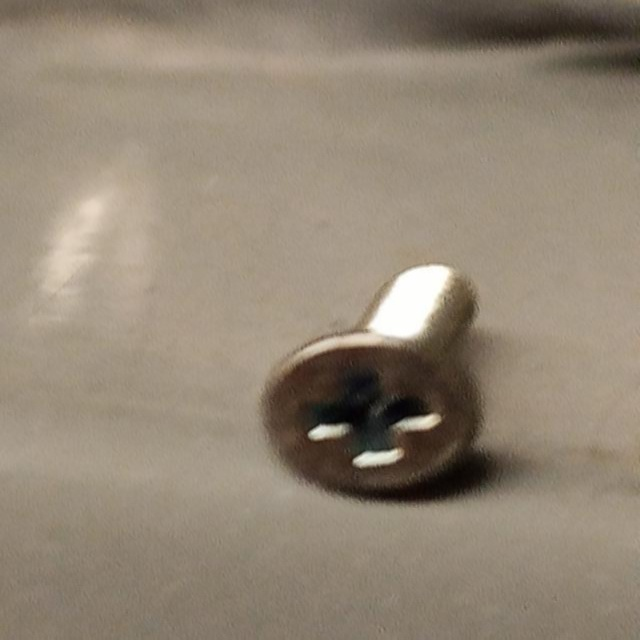phillips: (254, 332, 482, 500)
